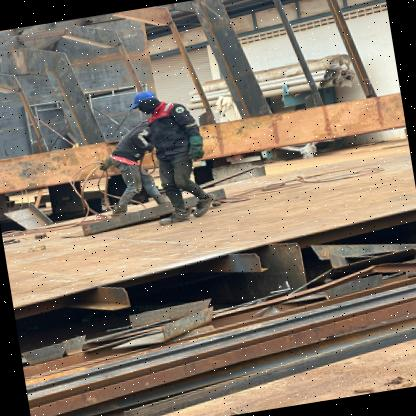bota: (190, 191, 218, 217), (156, 208, 192, 226)
